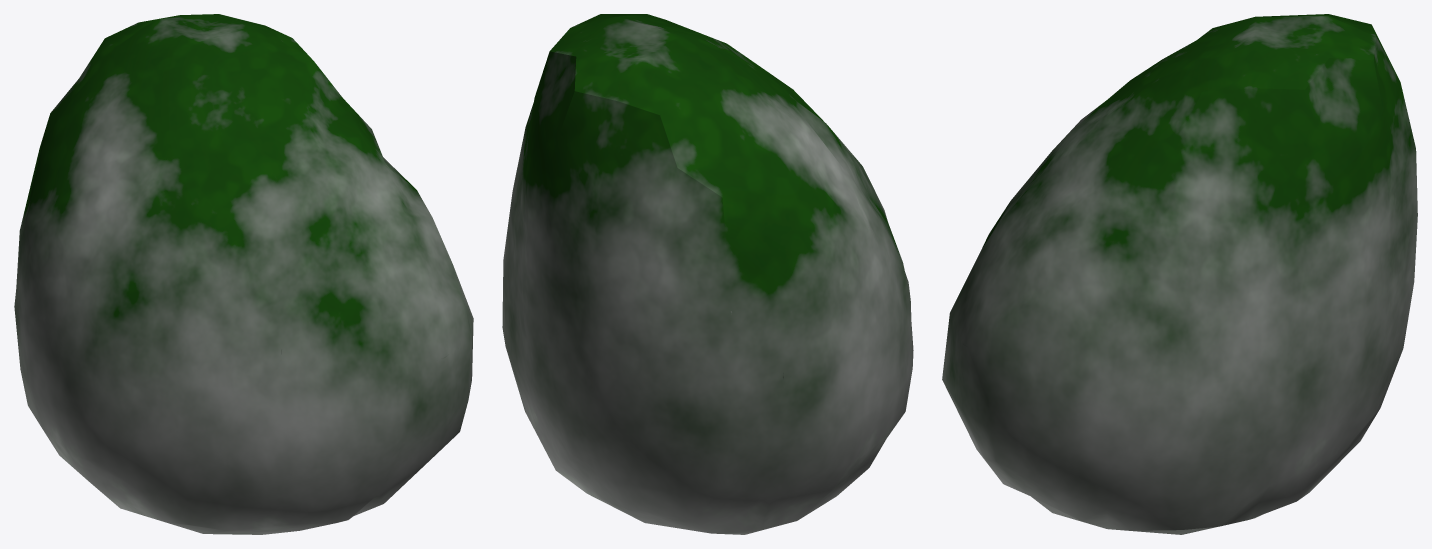
Rendered from rock_4.fbx.
3 renders of one model, left to right at view 1: azimuth 30°, elevation 25°; view 2: azimuth 150°, elevation 25°; view 3: azimuth 270°, elevation 25°, orthographic. The views are drawn at different scales.
Visible parts, largest first — view 1: rock.004; view 2: rock.004; view 3: rock.004.
Boxes of the visible parts, left/top/right/bottom form: rock.004: left=14, top=14, right=473, bottom=534; rock.004: left=502, top=14, right=913, bottom=534; rock.004: left=942, top=14, right=1417, bottom=534.
Bounding box in the file's own units: 136 × 162 × 141.
